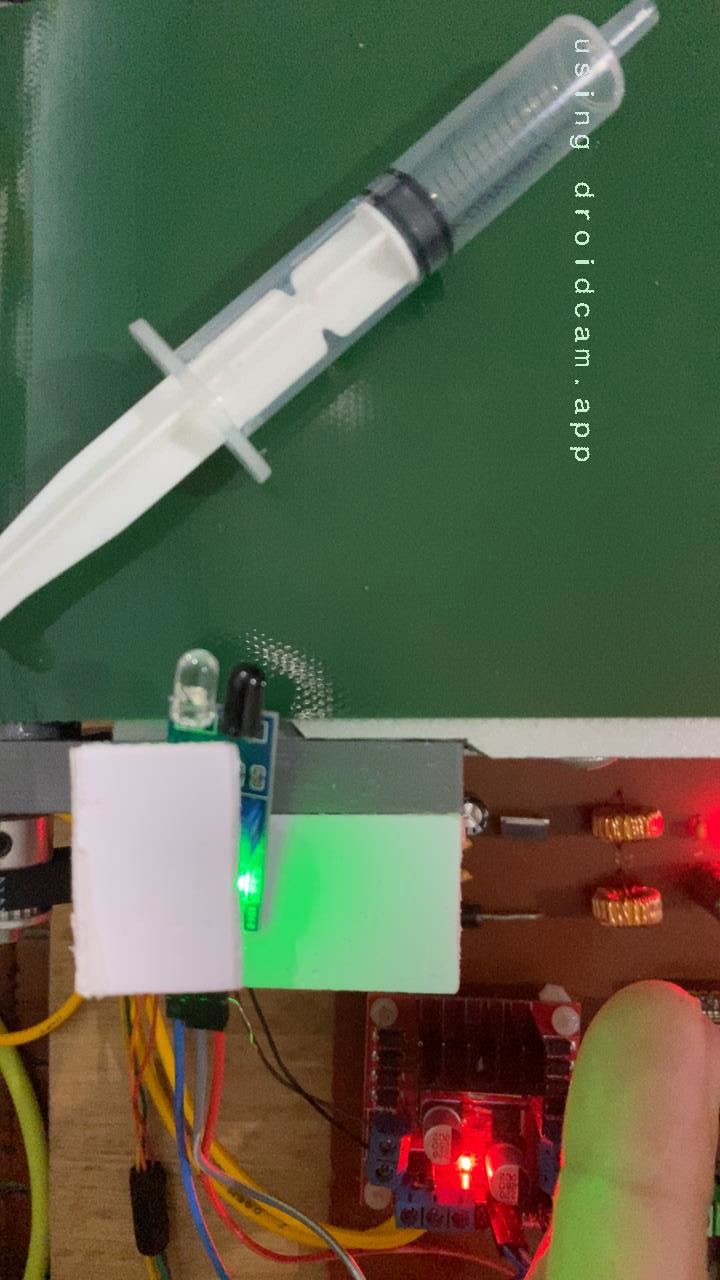syringe: (0, 0, 668, 628)
